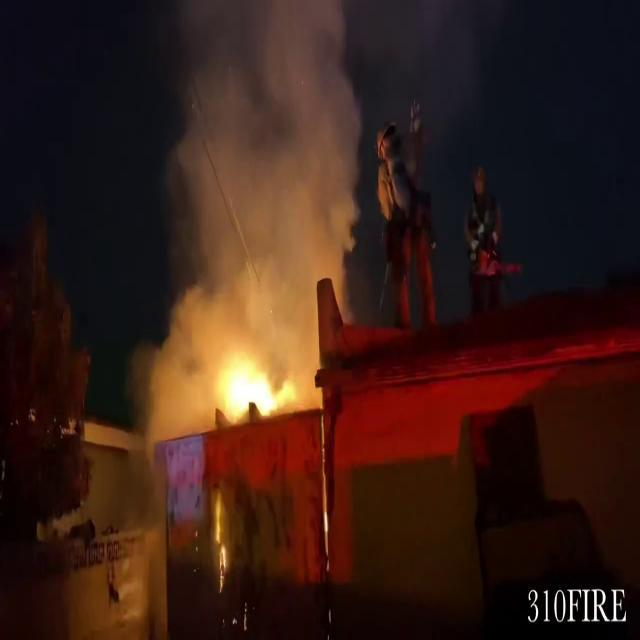Fire: (210, 341, 296, 442)
Smoke: (136, 0, 374, 420)
